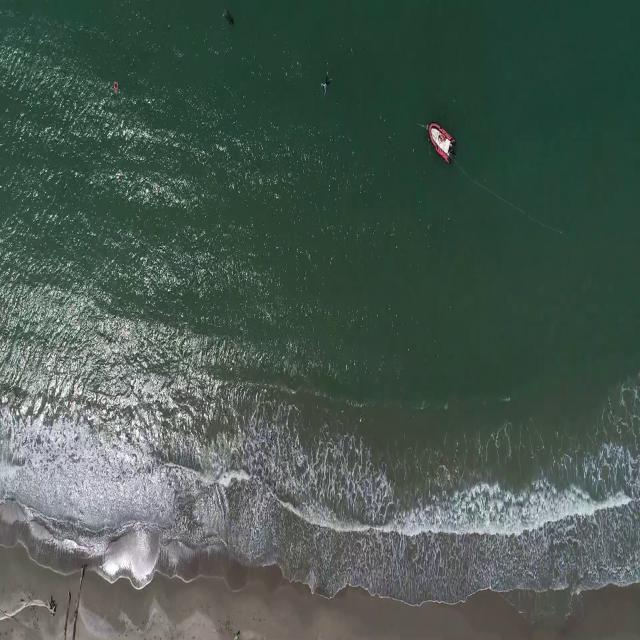boat: (428, 121, 455, 166)
life_buoy: (112, 80, 120, 92)
person: (320, 74, 333, 98), (223, 12, 238, 28)
wood: (64, 565, 86, 640), (0, 595, 61, 619)
